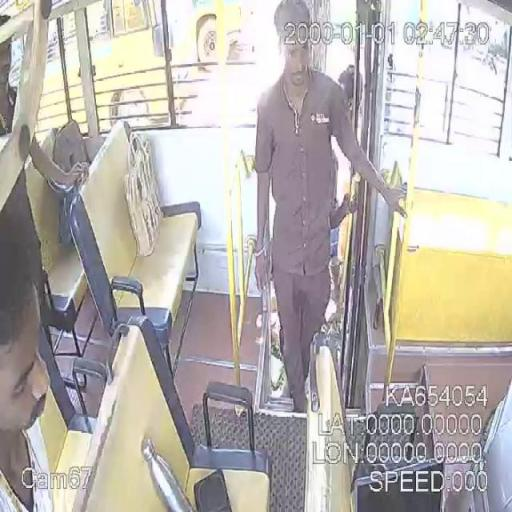persona: (252, 0, 408, 414), (0, 205, 53, 512)
